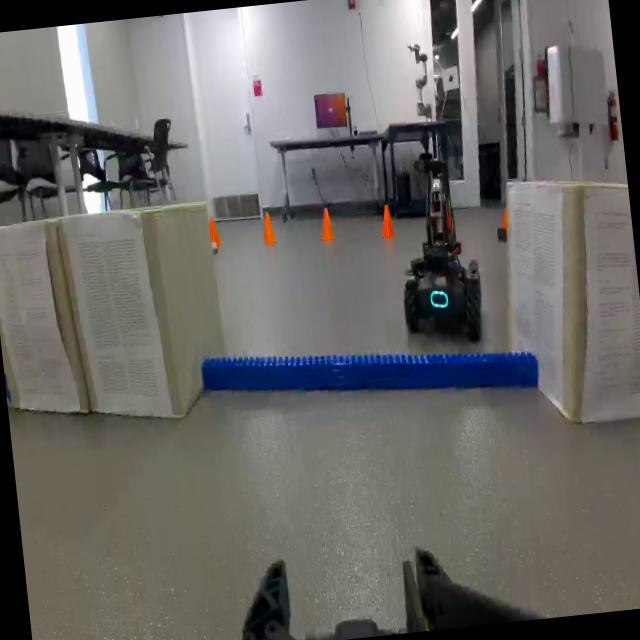cone: (257, 208, 279, 252), (316, 200, 338, 244), (203, 210, 225, 253), (376, 202, 398, 242), (497, 198, 511, 232)
river: (196, 313, 543, 427)
robot: (385, 148, 487, 350)
storage cube: (52, 193, 235, 434), (493, 161, 640, 438), (0, 206, 104, 431)
